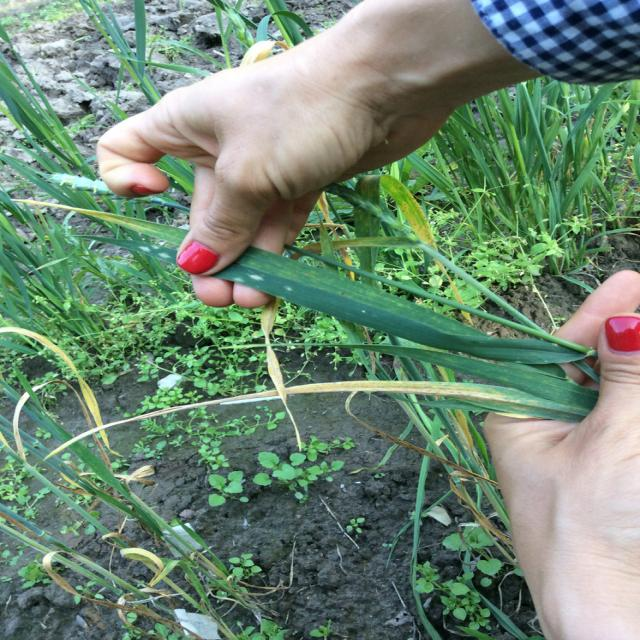wheat-powdery-mildew: (227, 269, 386, 320), (127, 241, 175, 261)
